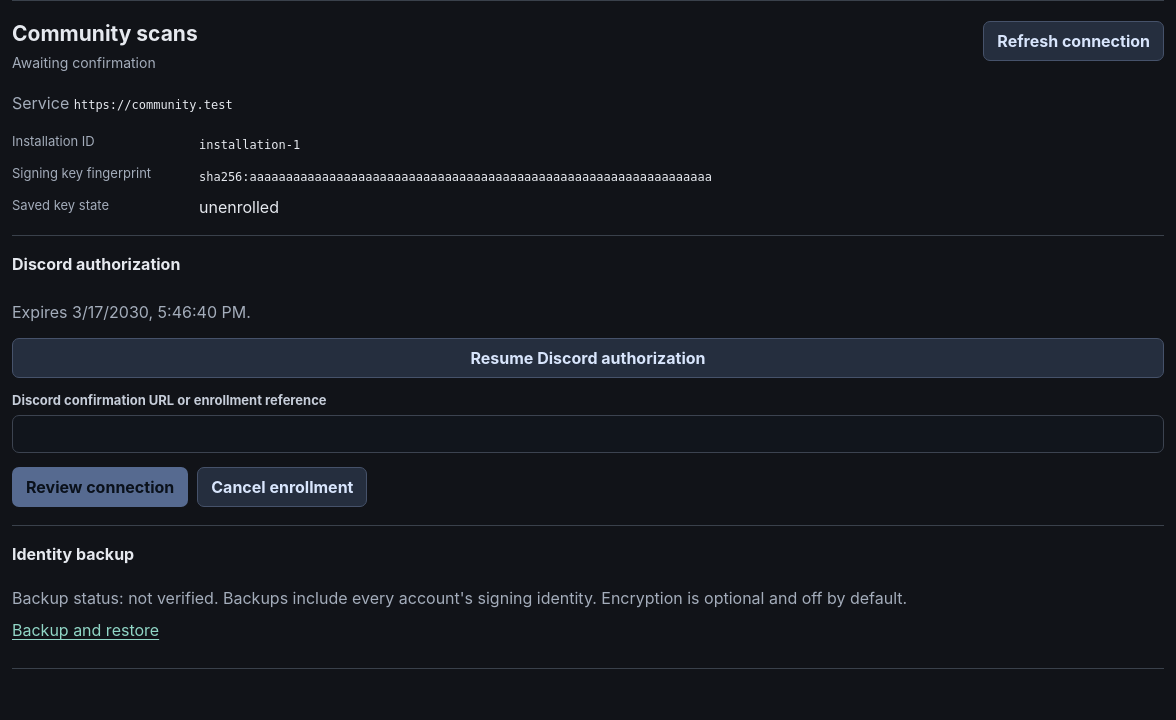
Test: resumes a persisted authorization and allows explicit cancellation
Click the button "Resume Discord authorization".
click(588, 358)  # box 12,338 -> 1164,378
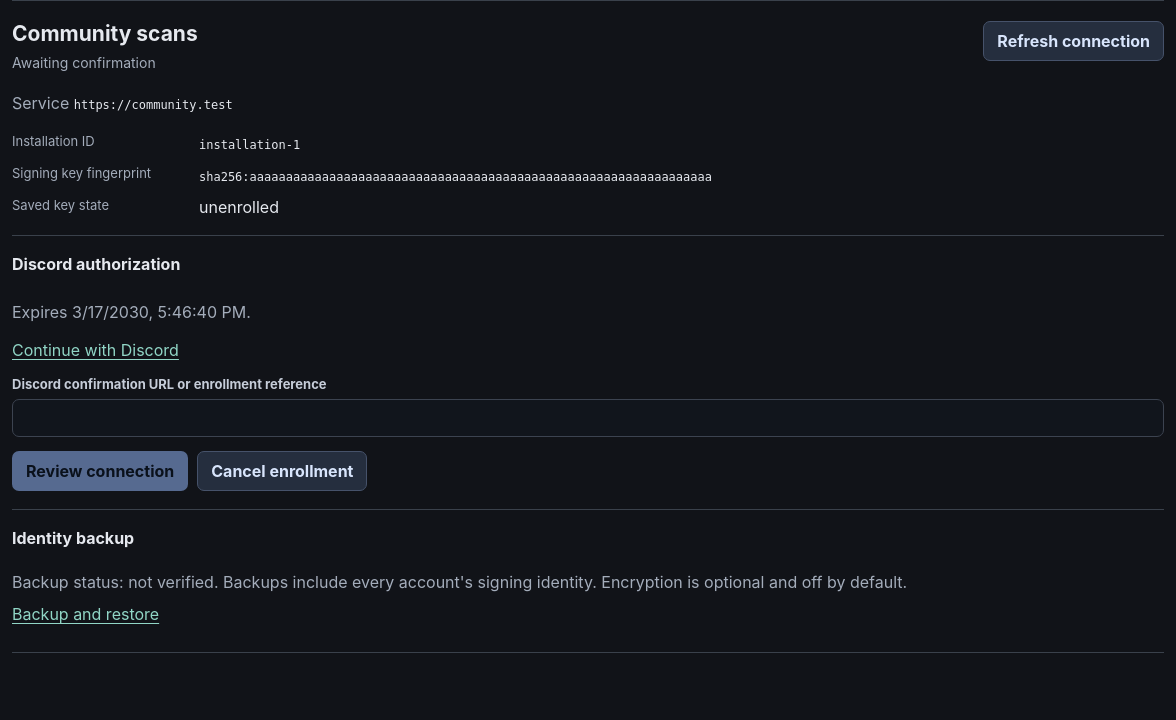
Check: the link "Continue with Discord" is shown, box 12,340 -> 179,360
Click the button "Cancel enrollment".
click(282, 471)  # box 197,451 -> 368,491
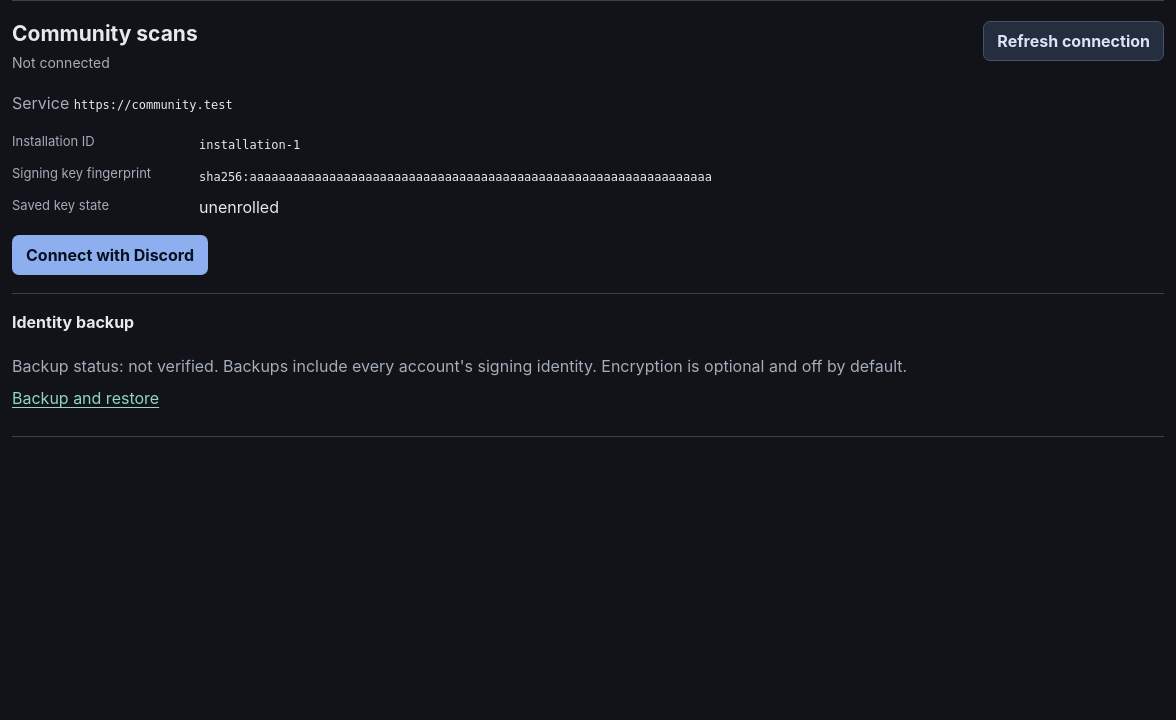
Check: the button "Connect with Discord" is shown, box 12,235 -> 208,275
